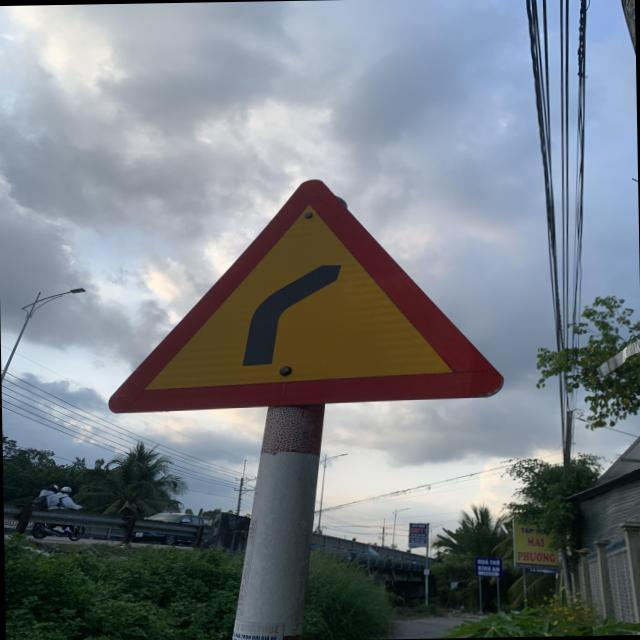Duong_Nguoi_Di_Bo_Cat_Ngang: (108, 182, 500, 415)
